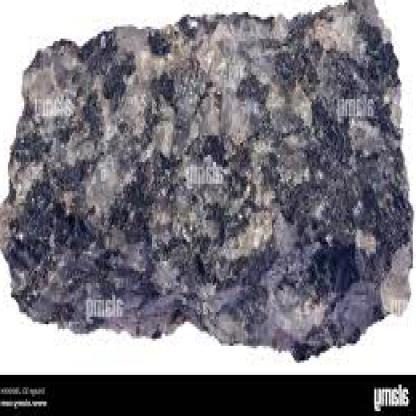Igneous_Diorite: (1, 0, 413, 356)
